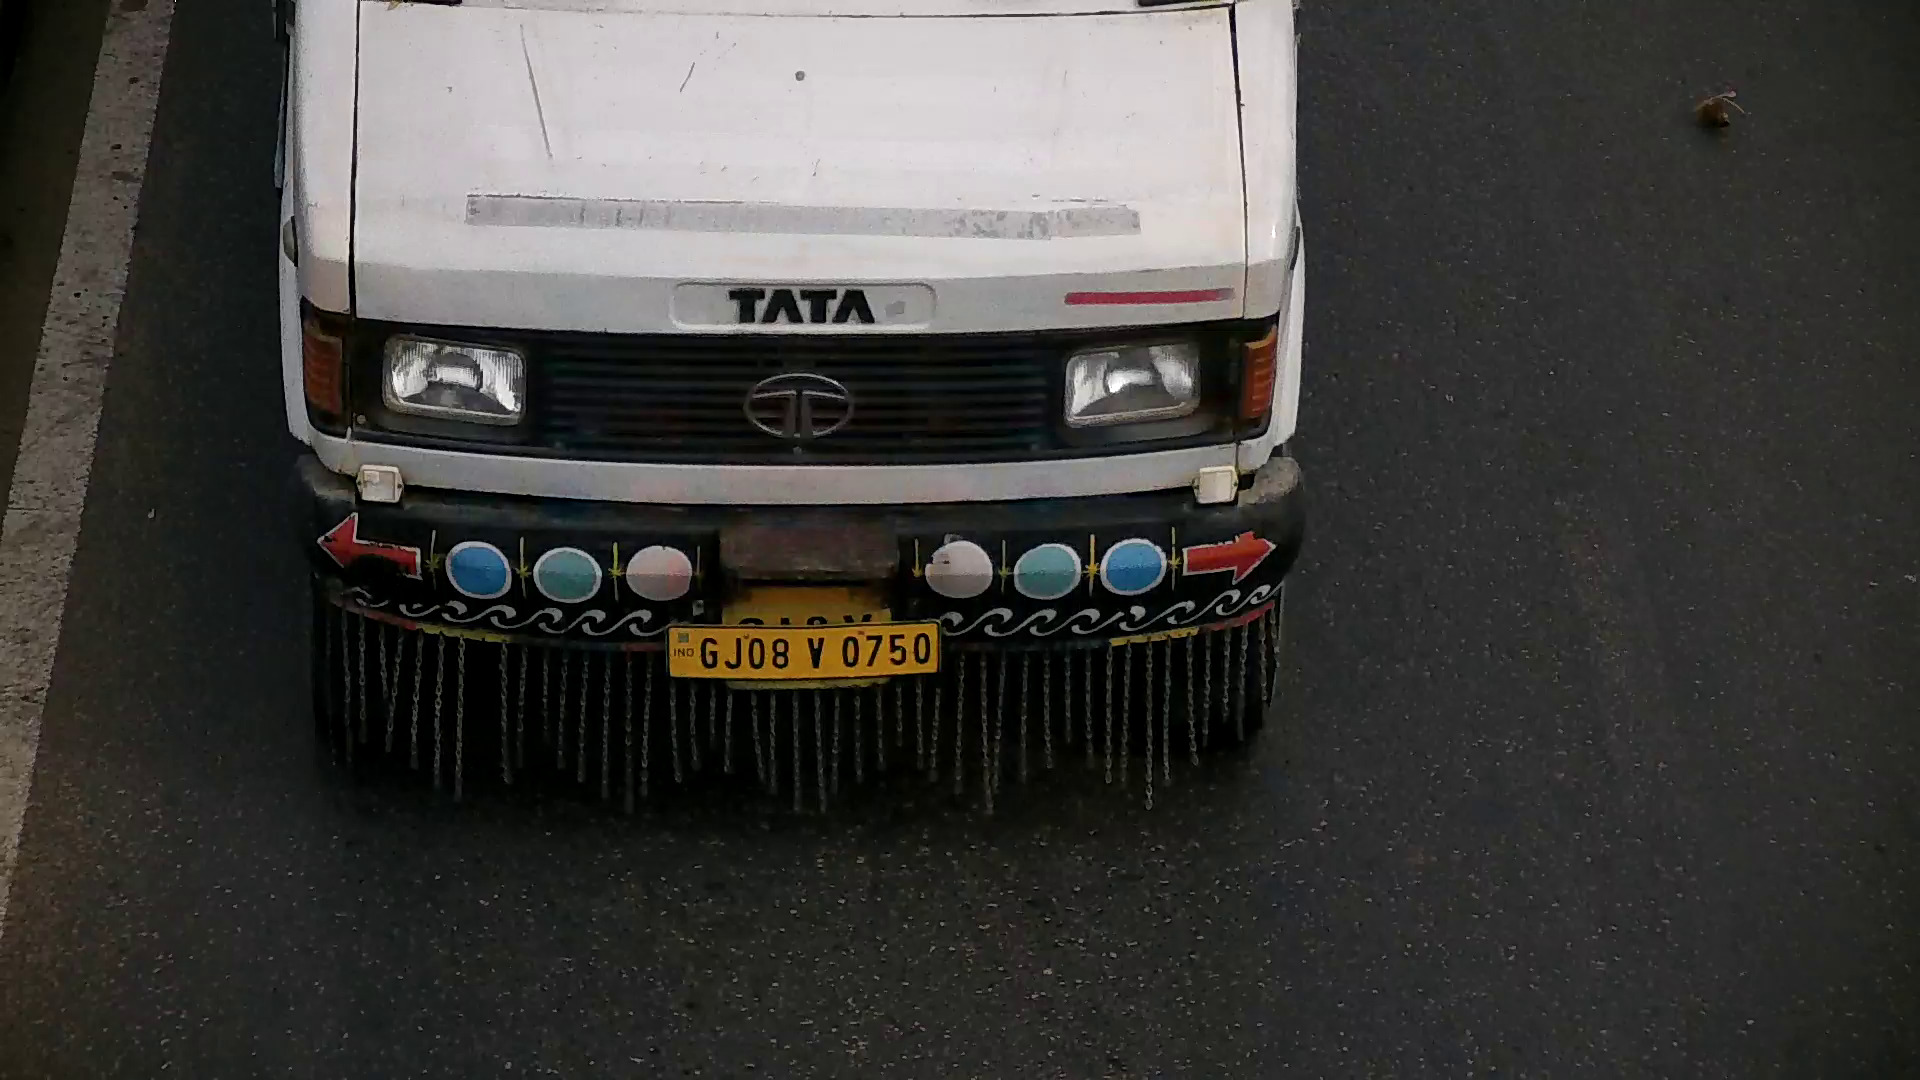numberplate: (662, 621, 943, 677)
